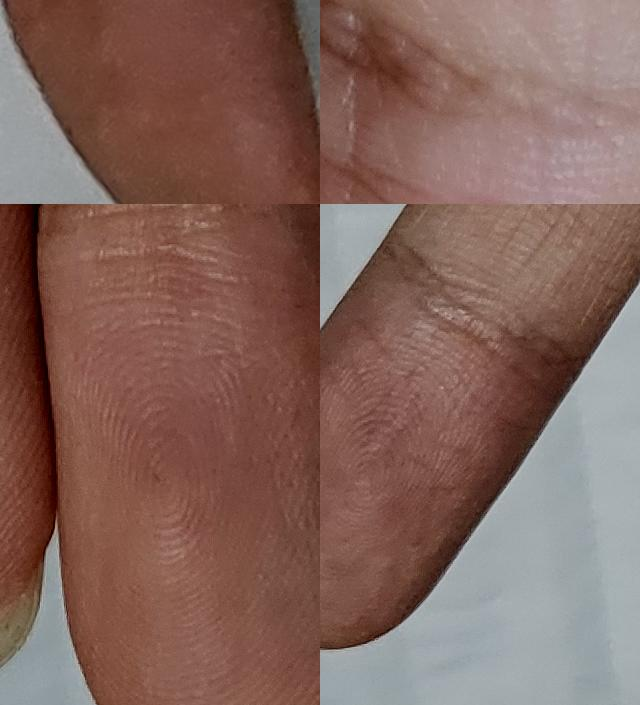Fingerprints: (38, 219, 320, 705), (320, 245, 579, 650), (3, 0, 320, 204), (320, 23, 640, 204)
